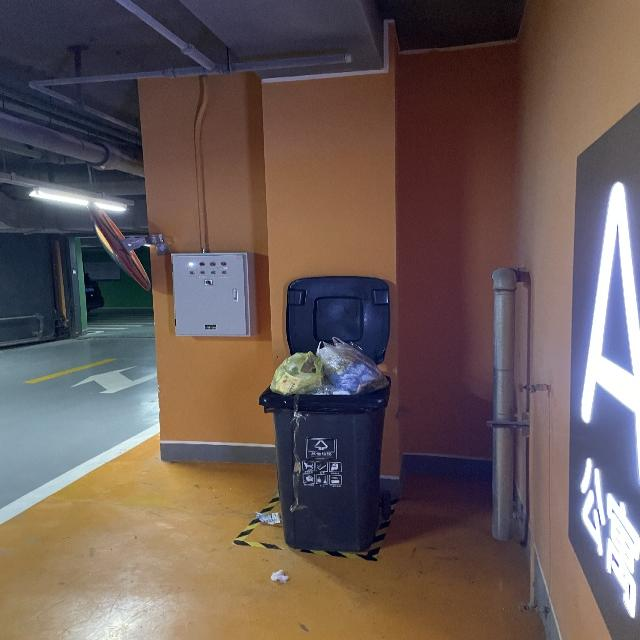overflow: (258, 337, 392, 551)
